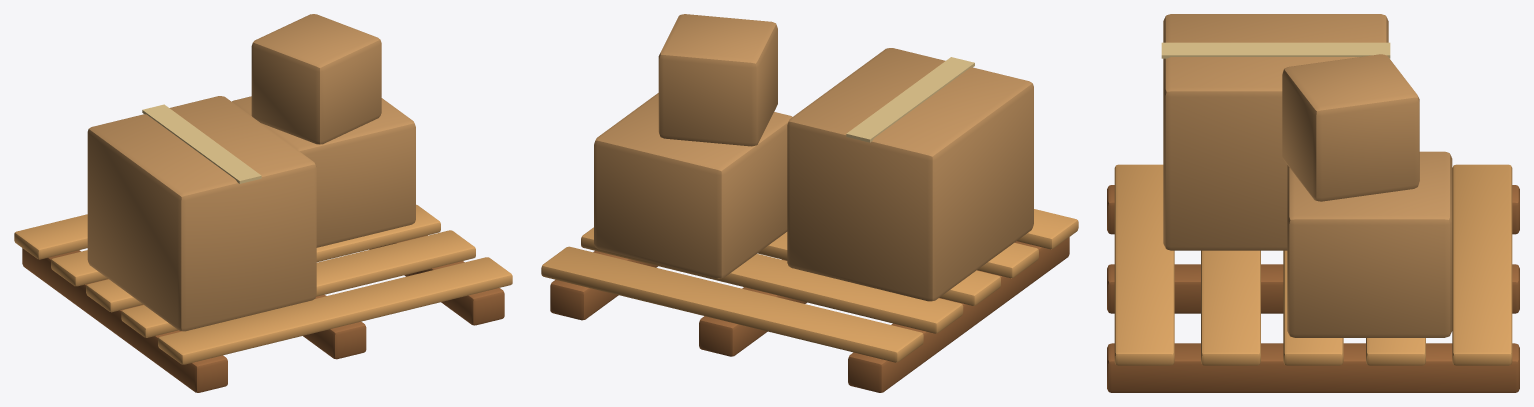
File: PalletStack.fbx
3 views of the same model, side by side, from view 1: azimuth 30°, elevation 25°; view 2: azimuth 150°, elevation 25°; view 3: azimuth 270°, elevation 25° (orthographic). The views are drawn at different scales.
Parts seen in each view (by area): view 1: Prop_PalletStack; view 2: Prop_PalletStack; view 3: Prop_PalletStack.
Part boxes in pixels (x1,y1,x2,y2): Prop_PalletStack: [14, 14, 512, 392]; Prop_PalletStack: [541, 14, 1078, 392]; Prop_PalletStack: [1107, 14, 1519, 392].
Bounding box in the file's own units: 1.2 × 0.78 × 1.1.
